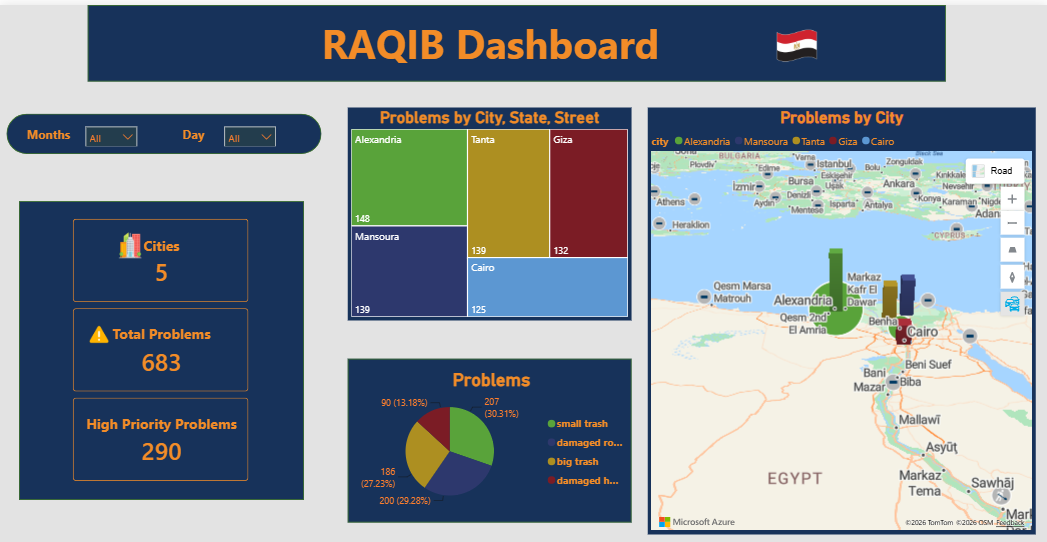

This screenshot's page, from the dashboard's own definition file:
{"tool":"powerbi","page":{"name":"Page 1","canvas":[1400,720],"ordinal":0},"visuals":[{"type":"shape","box":[118,0,1144,102],"z":0},{"type":"textbox","box":[184,10,944,84],"z":1000},{"type":"image","box":[1015.4,26.1,97.4,54.9],"z":2000},{"type":"shape","box":[9.6,145.5,419.9,53.5],"z":3000},{"type":"slicer","fields":{"Values":["egypt_dummy_problems.report_date.Variation.Date Hierarchy.Month"]},"box":[105.7,150.9,89.2,37],"z":4000},{"type":"textbox","box":[27.4,156.4,78.2,31.6],"z":5000},{"type":"textbox","box":[220,157.1,78.6,31.4],"z":6000},{"type":"slicer","fields":{"Values":["egypt_dummy_problems.report_date.Variation.Date Hierarchy.Day"]},"box":[289.5,150.9,89.2,37],"z":7000},{"type":"azureMap","title":"Problems by City","fields":{"Y":["egypt_dummy_problems.latitude"],"X":["egypt_dummy_problems.longitude"],"Series":["egypt_dummy_problems.city"],"Size":["_calculations.num of problems"]},"box":[864.3,137.1,517.1,568.6],"z":8000},{"type":"treemap","title":"Problems by City, State, Street","fields":{"Group":["egypt_dummy_problems.city","egypt_dummy_problems.district","egypt_dummy_problems.street"],"Values":["_calculations.num of problems"]},"box":[465.7,137.1,378.6,284.3],"z":9000},{"type":"shape","box":[465,471.7,378.3,218.3],"z":10000},{"type":"pieChart","title":"Problems","fields":{"Category":["egypt_dummy_problems.problem"],"Y":["_calculations.num of problems"]},"box":[466.7,485,380,193.3],"z":11000},{"type":"shape","box":[26.7,261.7,380,398.3],"z":12000},{"type":"cardVisual","fields":{"Data":["_calculations.num of cities","_calculations.num of problems","Sum(_calculations.High Priority Reports)"]},"box":[81.7,268.3,268.3,385],"z":13000},{"type":"image","box":[105.7,421.4,57.1,35.7],"z":14000},{"type":"image","box":[154.3,302.9,40,34.3],"z":15000}]}

Visuals, with their boxes in screenshot pixels (x1, y1, x2, y2), scaled from the page's 1400x720 canvas onto the 1047x542 screenshot:
shape: left=88, top=0, right=944, bottom=77
textbox: left=138, top=8, right=844, bottom=71
image: left=759, top=20, right=832, bottom=61
shape: left=7, top=110, right=321, bottom=150
slicer - egypt_dummy_problems.report_date.Variation.Date Hierarchy.Month: left=79, top=114, right=146, bottom=141
textbox: left=20, top=118, right=79, bottom=142
textbox: left=165, top=118, right=223, bottom=142
slicer - egypt_dummy_problems.report_date.Variation.Date Hierarchy.Day: left=217, top=114, right=283, bottom=141
"Problems by City" azureMap: left=646, top=103, right=1033, bottom=531
"Problems by City, State, Street" treemap: left=348, top=103, right=631, bottom=317
shape: left=348, top=355, right=631, bottom=519
"Problems" pieChart: left=349, top=365, right=633, bottom=511
shape: left=20, top=197, right=304, bottom=497
cardVisual - _calculations.num of cities x _calculations.num of problems: left=61, top=202, right=262, bottom=492
image: left=79, top=317, right=122, bottom=344
image: left=115, top=228, right=145, bottom=254
